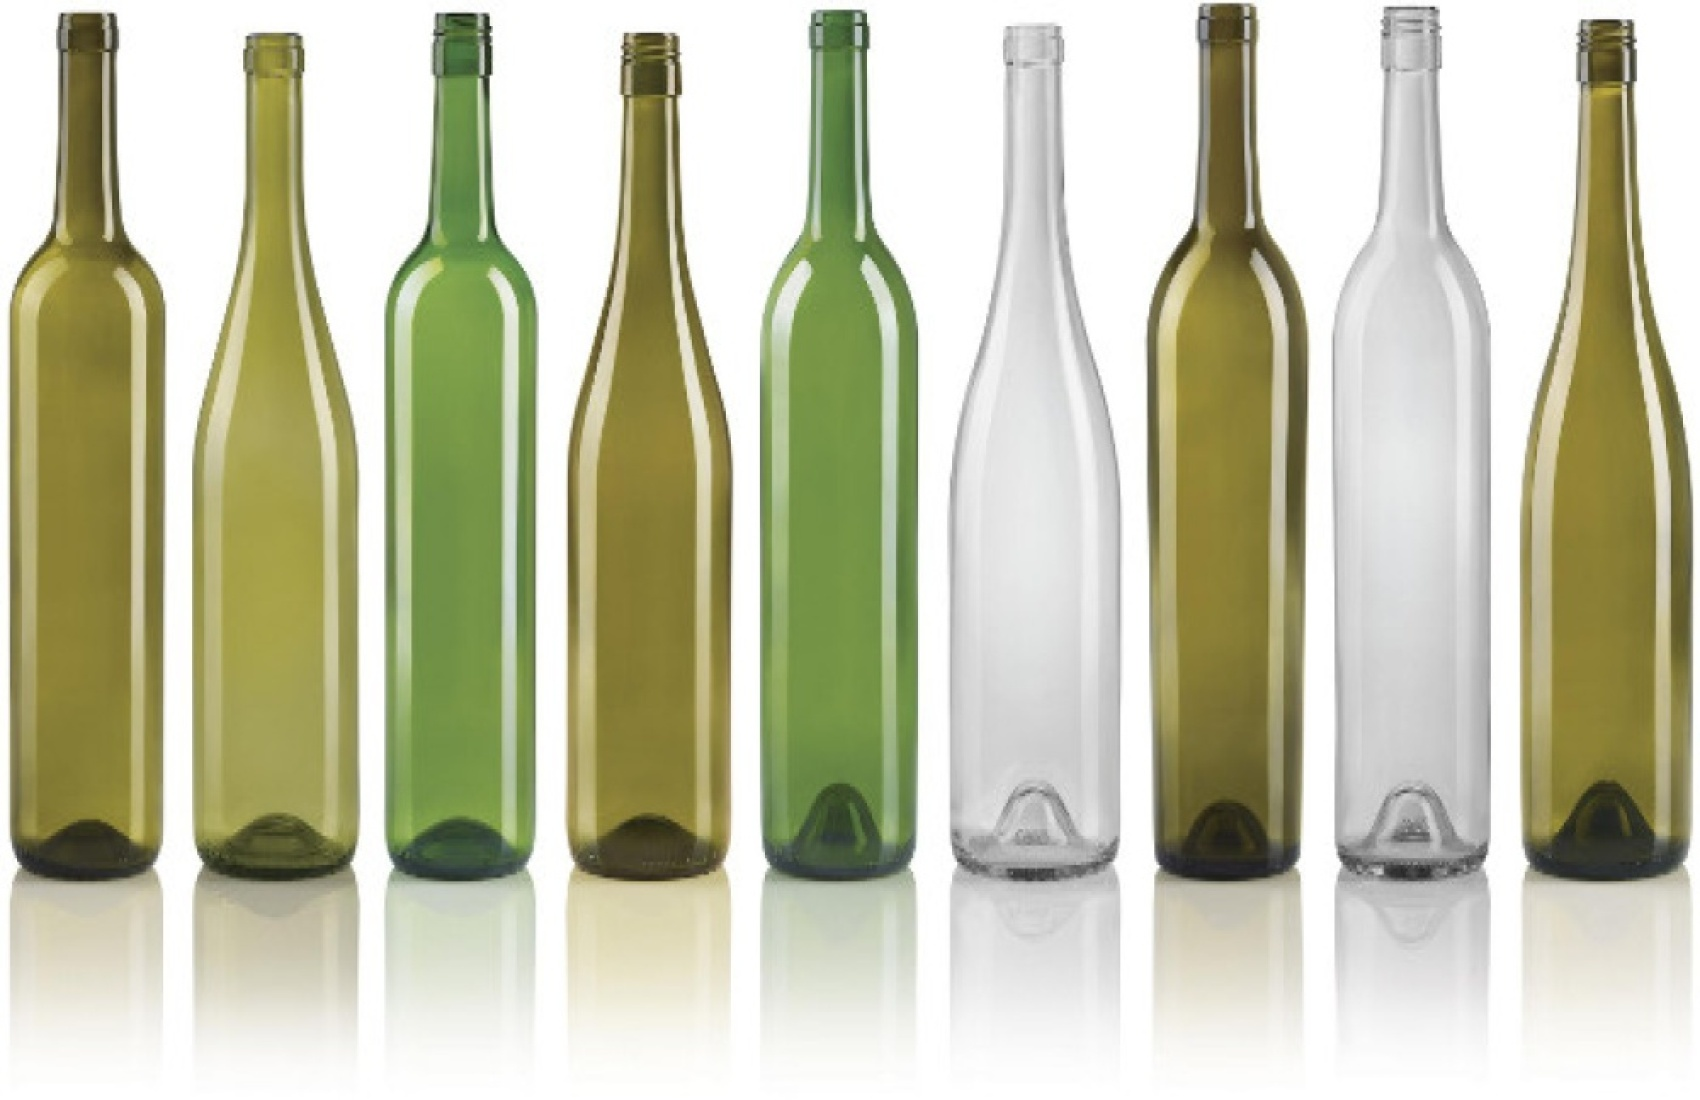wine: (12, 43, 173, 886), (755, 28, 914, 872), (953, 26, 1113, 870), (1336, 24, 1496, 867), (196, 31, 356, 875), (570, 21, 730, 863), (1149, 22, 1308, 865), (1520, 37, 1680, 880), (385, 22, 545, 865)
